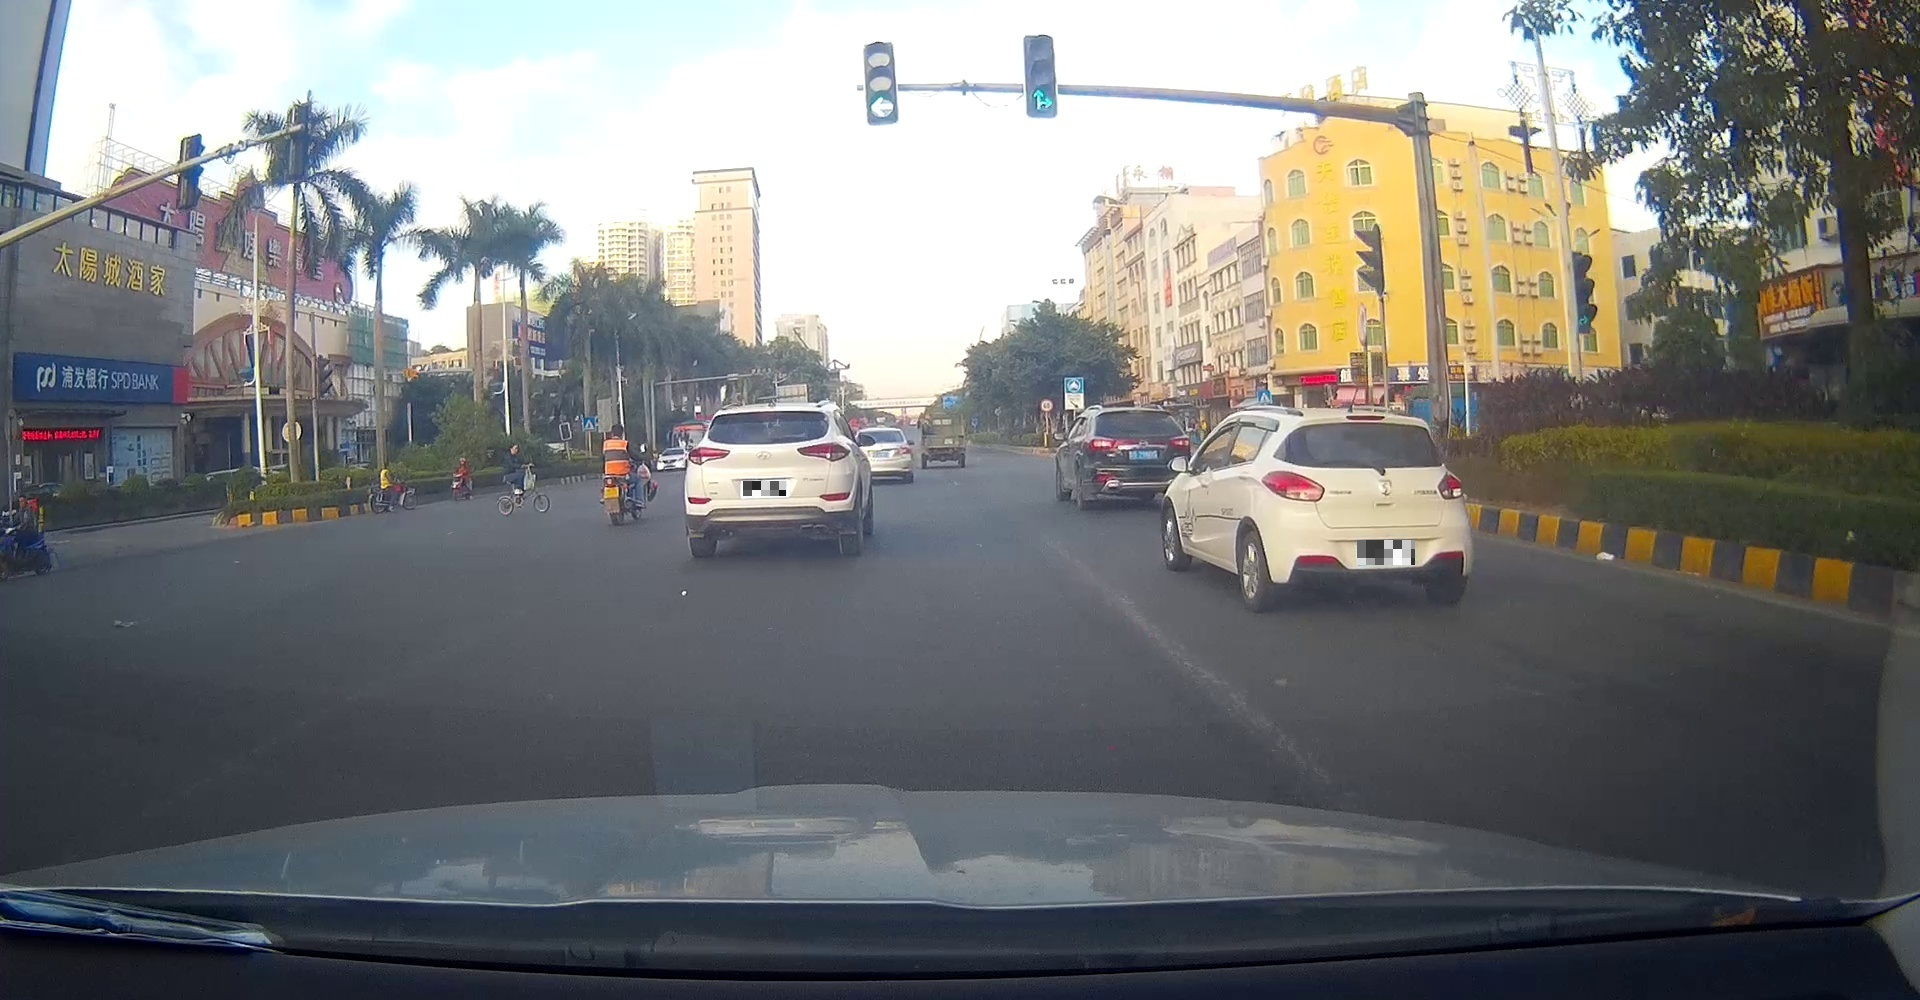L_light: (1261, 470, 1324, 503), (688, 445, 731, 466), (1090, 437, 1116, 451)
R_light: (796, 440, 851, 462), (1437, 470, 1463, 501), (1170, 437, 1190, 451)
T_light: (1345, 415, 1385, 423), (752, 412, 776, 420), (1129, 412, 1144, 418)
day-no: (1258, 410, 1473, 610), (684, 404, 856, 557), (1084, 407, 1190, 510)
plate_1: (743, 481, 786, 496)
plate_2: (1357, 541, 1415, 565)
